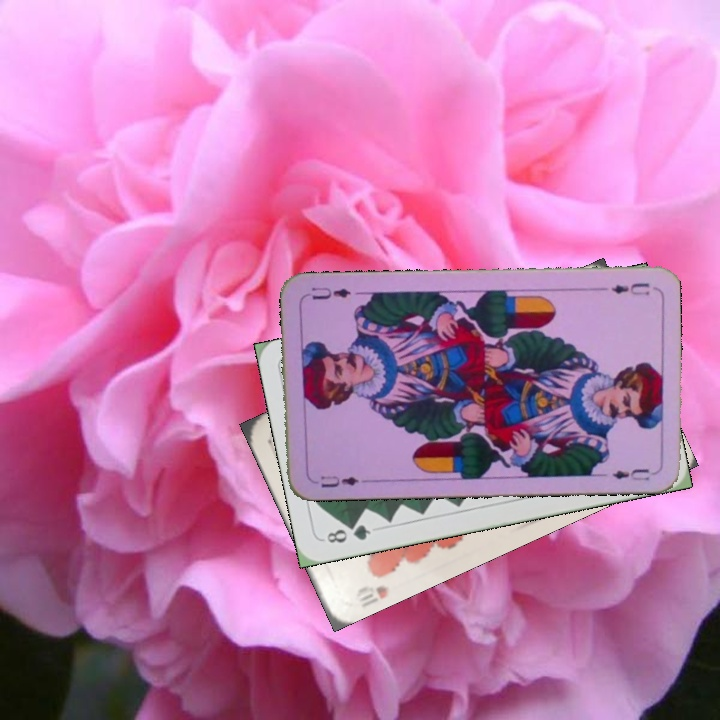EU: (317, 472, 368, 490), (607, 278, 652, 298)
G8: (322, 520, 374, 546)
H10: (350, 581, 391, 605)
